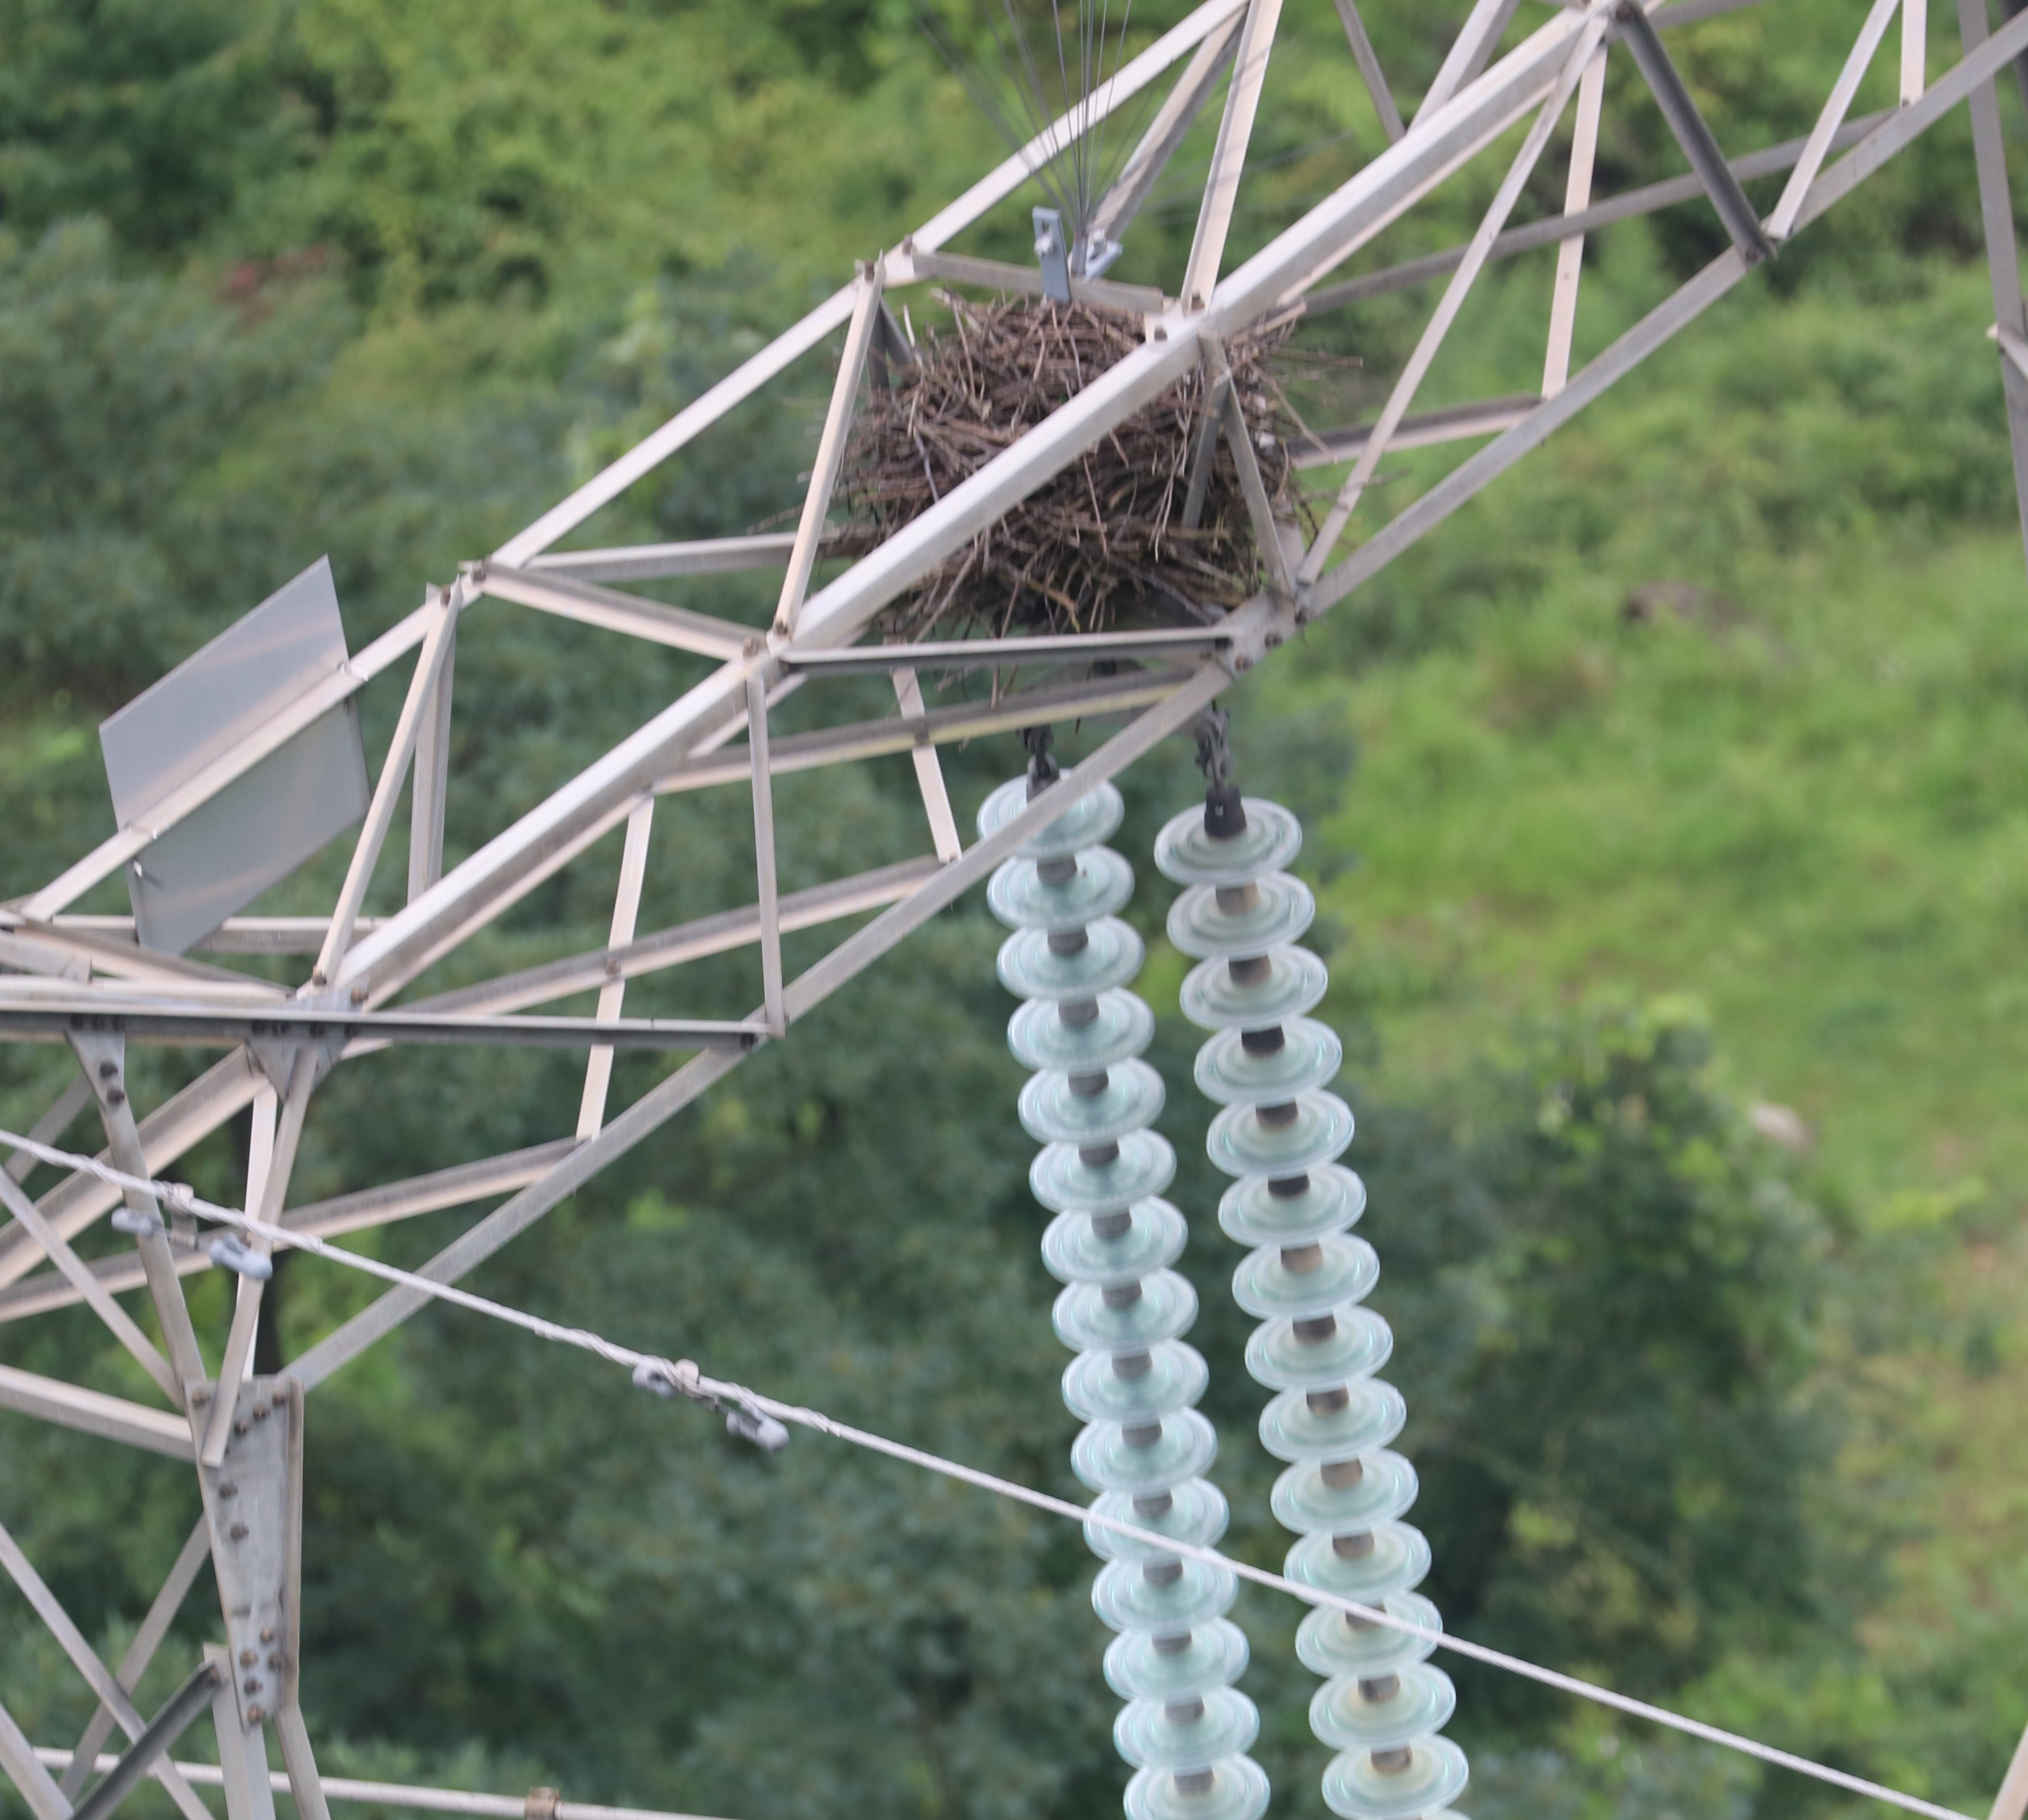niaowo: (805, 256, 1344, 701)
